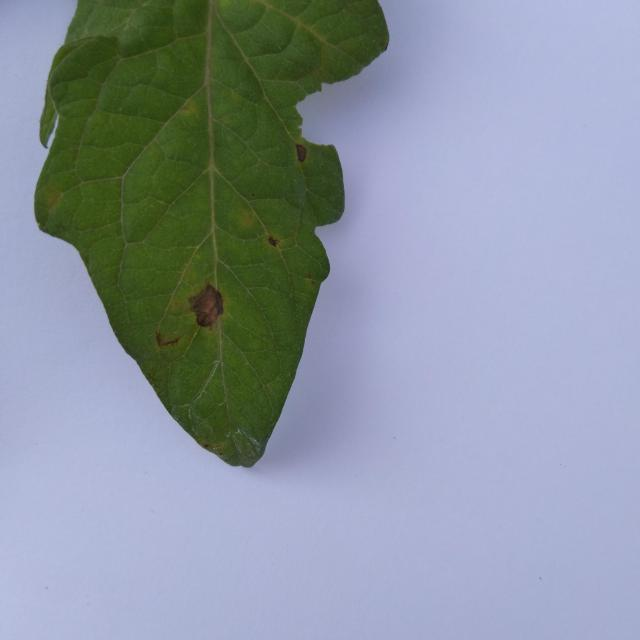Early Blight: (33, 0, 388, 468)
